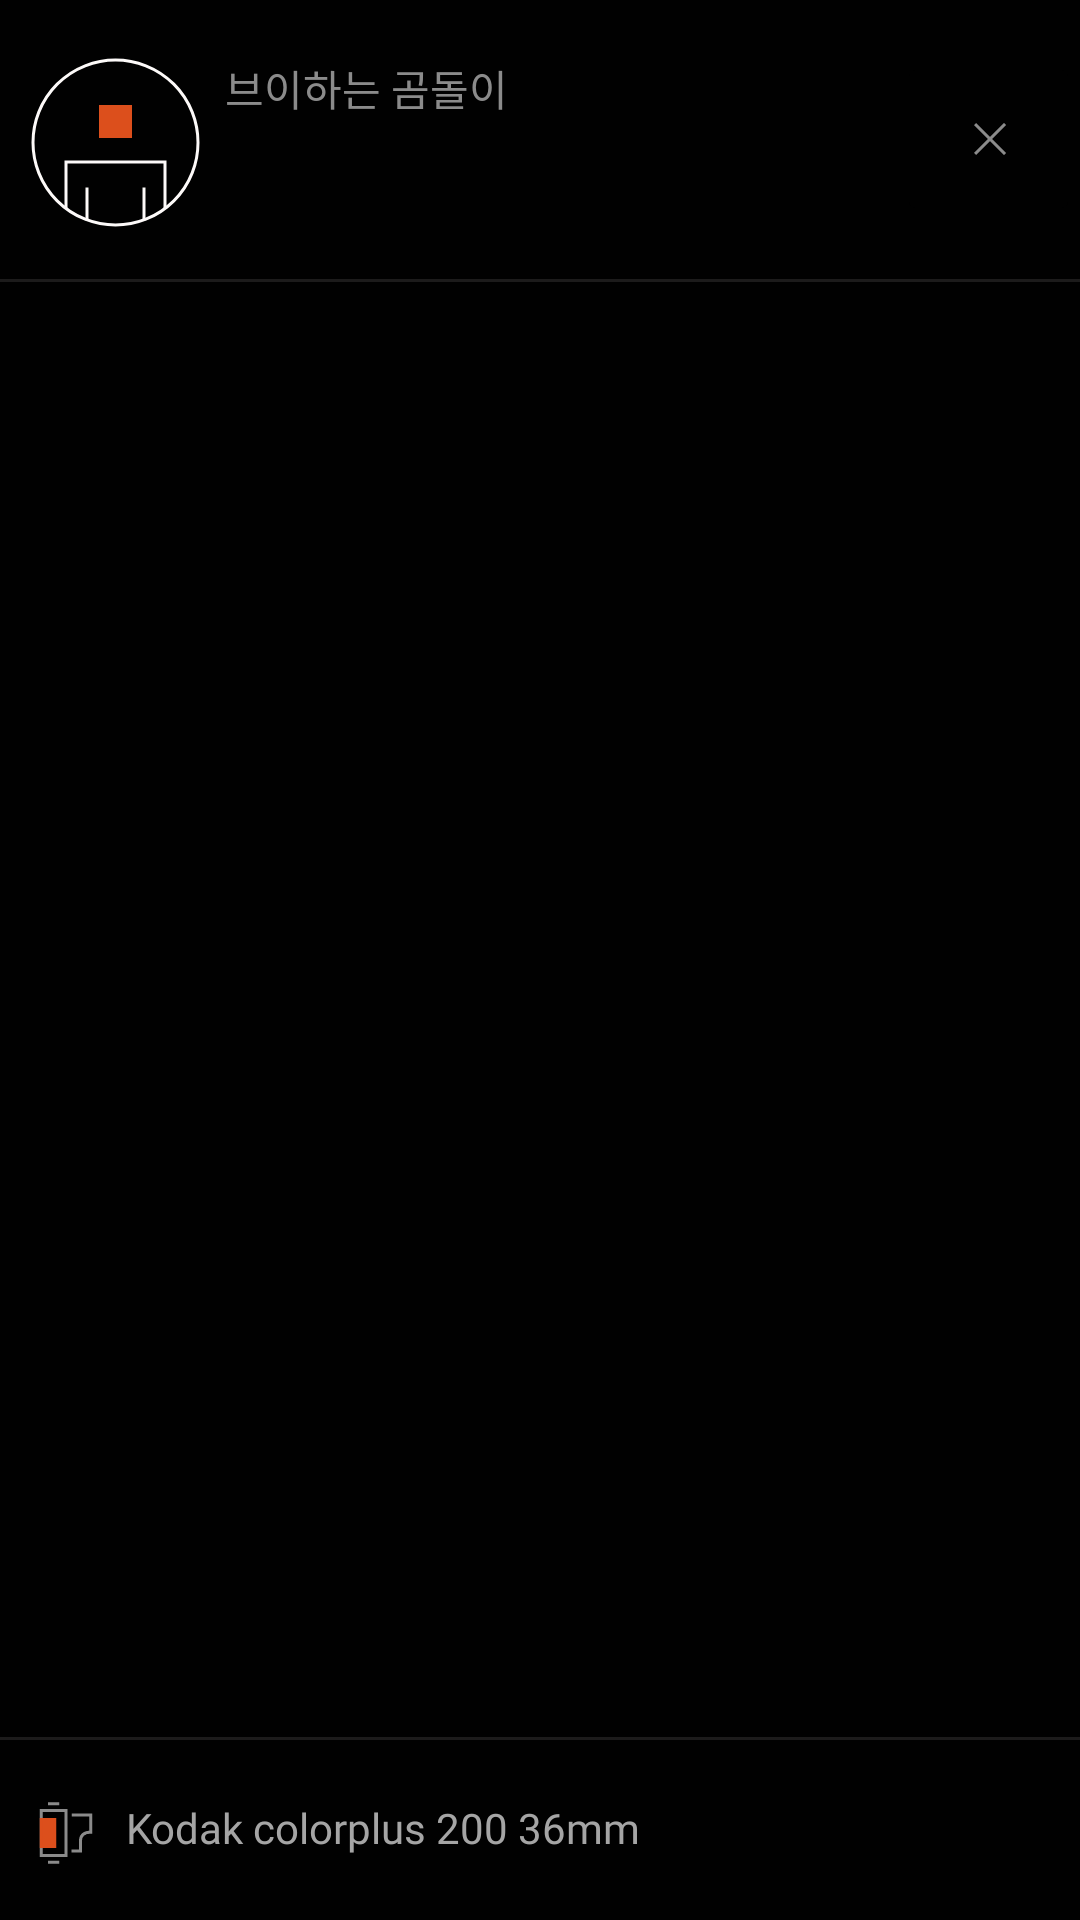

Where to tap for icons on this 1080*1920 app screen, as (x,y):
basic profile: (115,142)
clear: (990,139)
filmroll: (66,1833)
